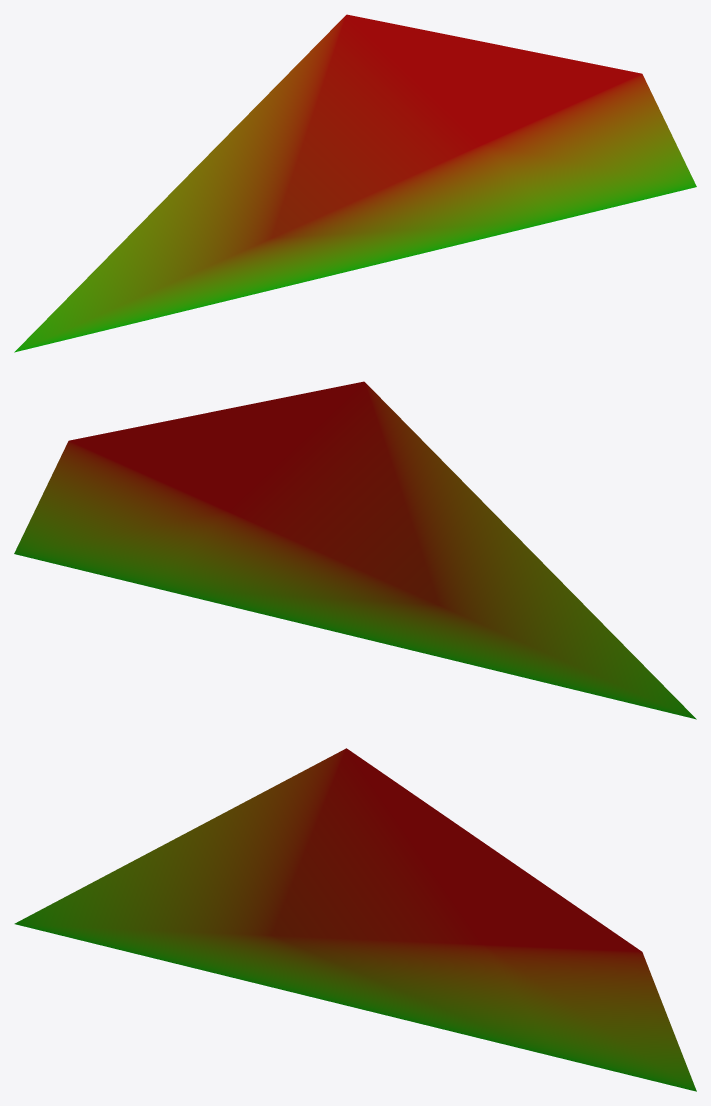
The model's file is Tundra Grass_LOD7_Var4_wk2oaeyqx.fbx.
3 views of the same model, one above another, from view 1: azimuth 30°, elevation 25°; view 2: azimuth 150°, elevation 25°; view 3: azimuth 330°, elevation 25° (orthographic).
Visible parts, largest first — view 1: _kahj_Var4_LOD7; view 2: _kahj_Var4_LOD7; view 3: _kahj_Var4_LOD7.
Boxes of the visible parts, box(x1,y1,x2,y2) form: _kahj_Var4_LOD7: box(14, 14, 696, 352); _kahj_Var4_LOD7: box(14, 381, 696, 719); _kahj_Var4_LOD7: box(14, 748, 696, 1091).
Size of the model in its own units: 64.07 by 23.13 by 1.06e-06.
